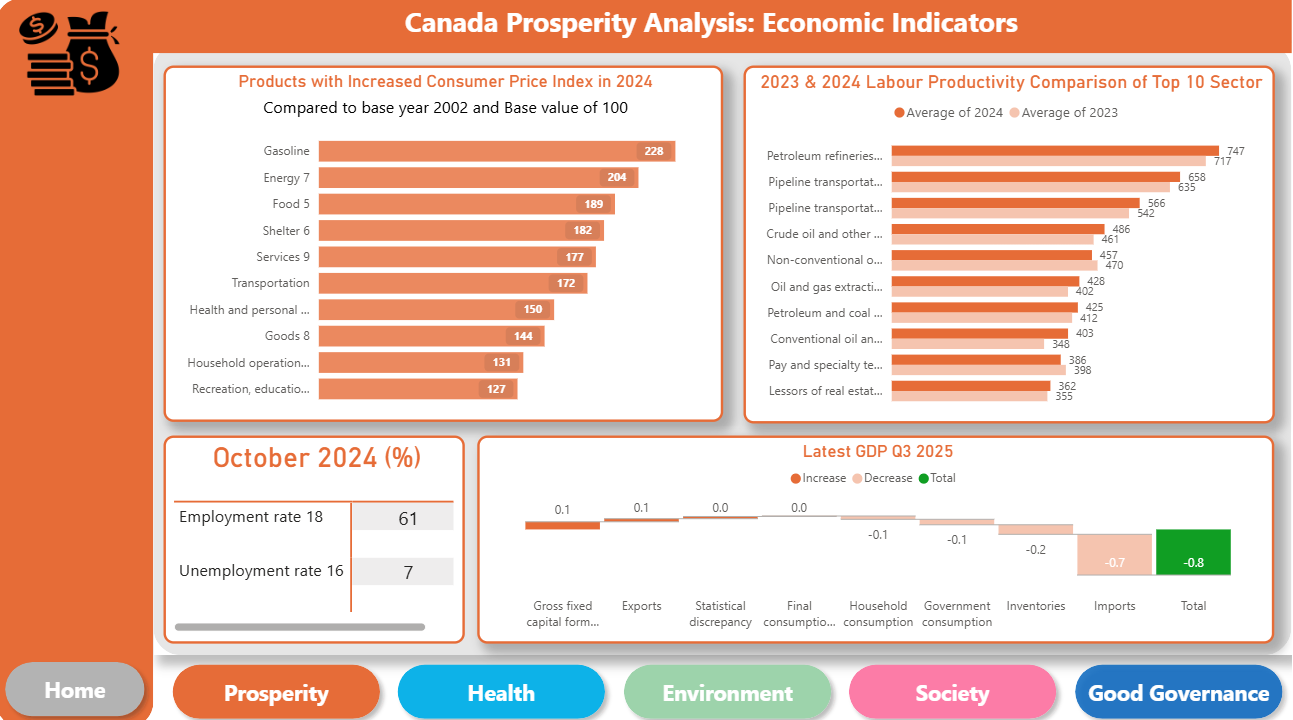

What the dashboard file says about the page in this screenshot:
{"tool":"powerbi","page":{"name":"Prosperity","canvas":[1280,720],"ordinal":1},"visuals":[{"type":"shape","box":[156.1,44,1123.7,604.5],"z":0},{"type":"clusteredBarChart","title":"2023 & 2024 Labour Productivity Comparison of Top 10 Sector","fields":{"Category":["labour_productivity.Productivity by Sector"],"Y":["Avg(labour_productivity.2024)","Avg(labour_productivity.2023)"]},"box":[738,66.7,524.5,353.7],"z":2000},{"type":"barChart","title":"Products with Increased Consumer Price Index in 2024","fields":{"Category":["CPI.Products"],"Y":["Avg(CPI.2024)"]},"box":[165.5,66.7,552.5,352.3],"z":3000},{"type":"actionButton","box":[165.4,648.9,222.8,71.5],"z":5000},{"type":"actionButton","box":[388.2,648.9,222.8,71.5],"z":6000},{"type":"shape","box":[0,0,155.6,720.4],"z":7000},{"type":"actionButton","box":[611.1,648.9,222.8,71.5],"z":8000},{"type":"actionButton","box":[833.9,648.9,222.8,71.5],"z":9000},{"type":"actionButton","box":[1056.8,648.9,222.8,71.5],"z":10000},{"type":"actionButton","box":[0,647.5,155.6,71.5],"z":11000},{"type":"textbox","box":[133.5,0,1146.4,54.7],"z":12000},{"type":"image","box":[0,0,144.4,109.3],"z":13000},{"type":"pivotTable","title":"October 2024 (%)","fields":{"Rows":["unemployment_rate.Labour force characteristics"],"Values":["Sum(unemployment_rate.October 2024)"]},"box":[165.5,432.4,297.6,205.5],"z":14000},{"type":"waterfallChart","title":"Latest GDP Q3 2025","fields":{"Category":["GDP Labels.GDP Group"],"Y":["GDP Labels.GDP Value"]},"box":[475.1,432.4,787.4,205.5],"z":14500}]}

Visuals, with their boxes in screenshot pixels (x1, y1, x2, y2), scaled from the page's 1280x720 canvas onto the 1293x720 screenshot:
shape: 158,44,1292,648
"2023 & 2024 Labour Productivity Comparison of Top 10 Sector" clusteredBarChart: 745,67,1275,420
"Products with Increased Consumer Price Index in 2024" barChart: 167,67,725,419
actionButton: 167,649,392,719
actionButton: 392,649,617,719
shape: 0,0,157,719
actionButton: 617,649,842,719
actionButton: 842,649,1067,719
actionButton: 1068,649,1292,719
actionButton: 0,648,157,719
textbox: 135,0,1292,55
image: 0,0,146,109
"October 2024 (%)" pivotTable: 167,432,468,638
"Latest GDP Q3 2025" waterfallChart: 480,432,1275,638
